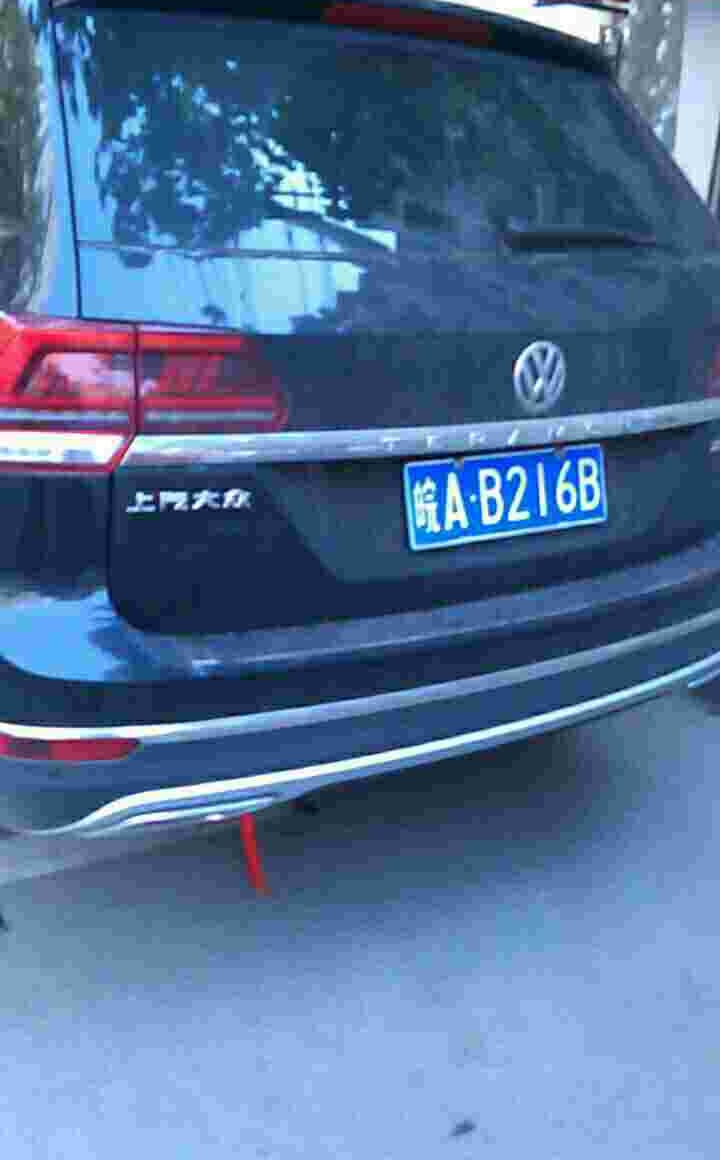license_plate: (402, 445, 615, 558)
